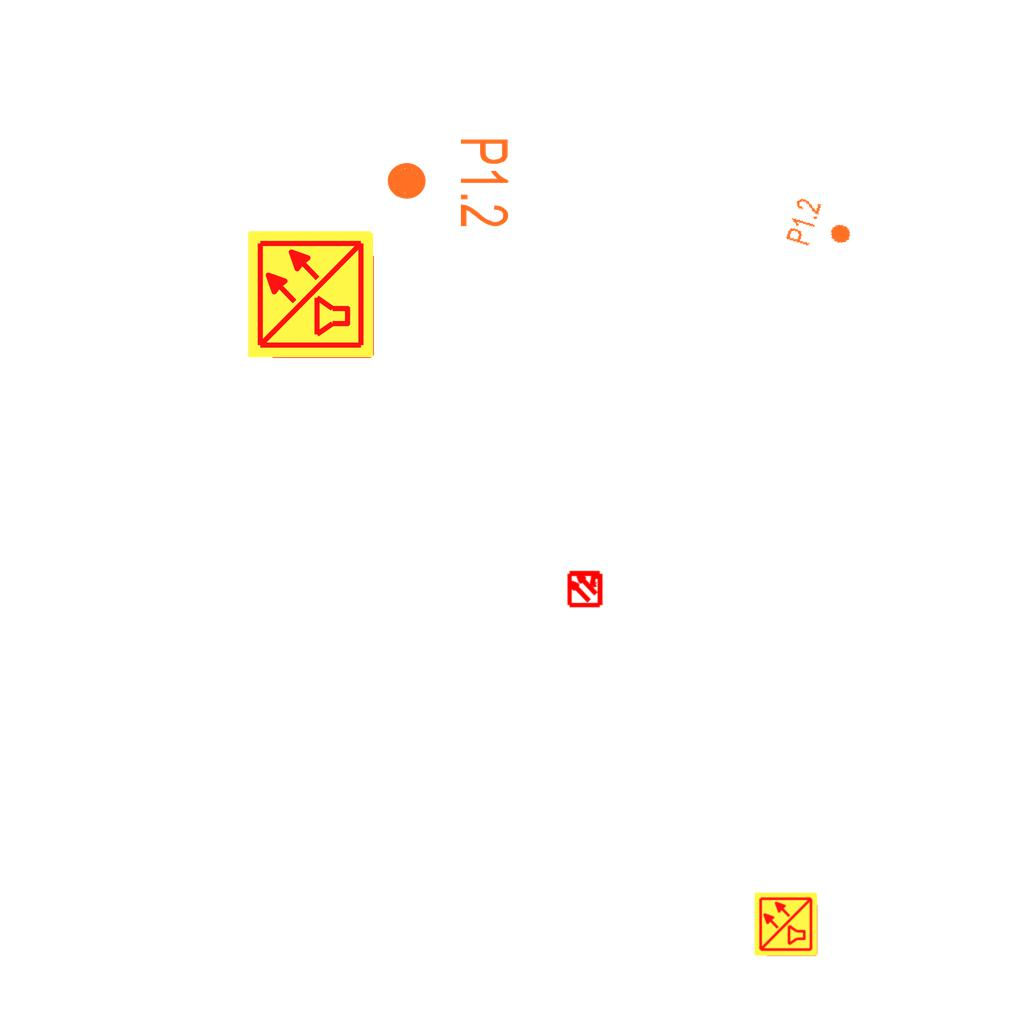Downlight_LED_Einbauleuchten_Flur: (384, 136, 512, 229), (783, 195, 859, 259)
OKW_Multisensormelder_(Kombination_optischer_Rauch-Kahlenmonoxid_Waerme-Melder): (245, 228, 377, 360), (753, 891, 819, 957)
OT_Multisensormelder_(Kombination_RMO_WMD): (557, 560, 613, 616)
